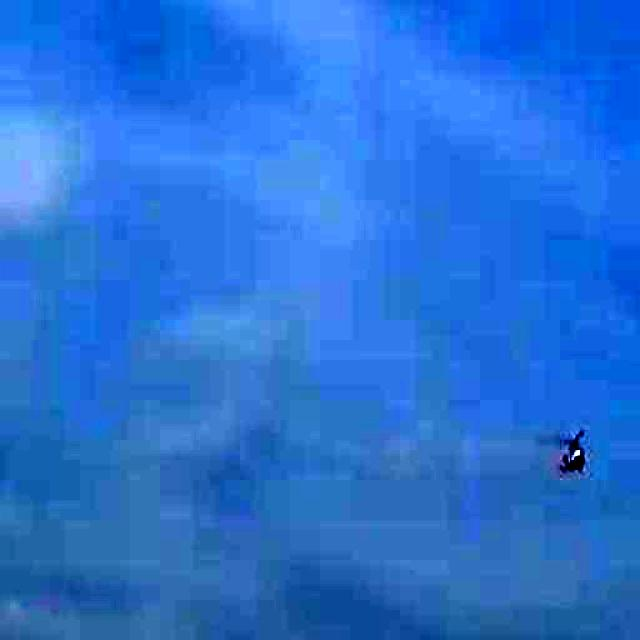drone: (540, 428, 602, 478)
